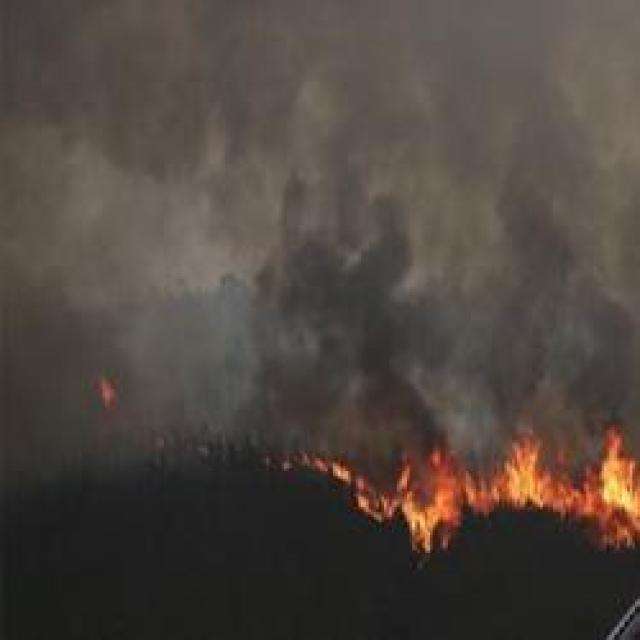Fire: (304, 430, 640, 554)
Smoke: (208, 0, 632, 420), (12, 15, 198, 471)
